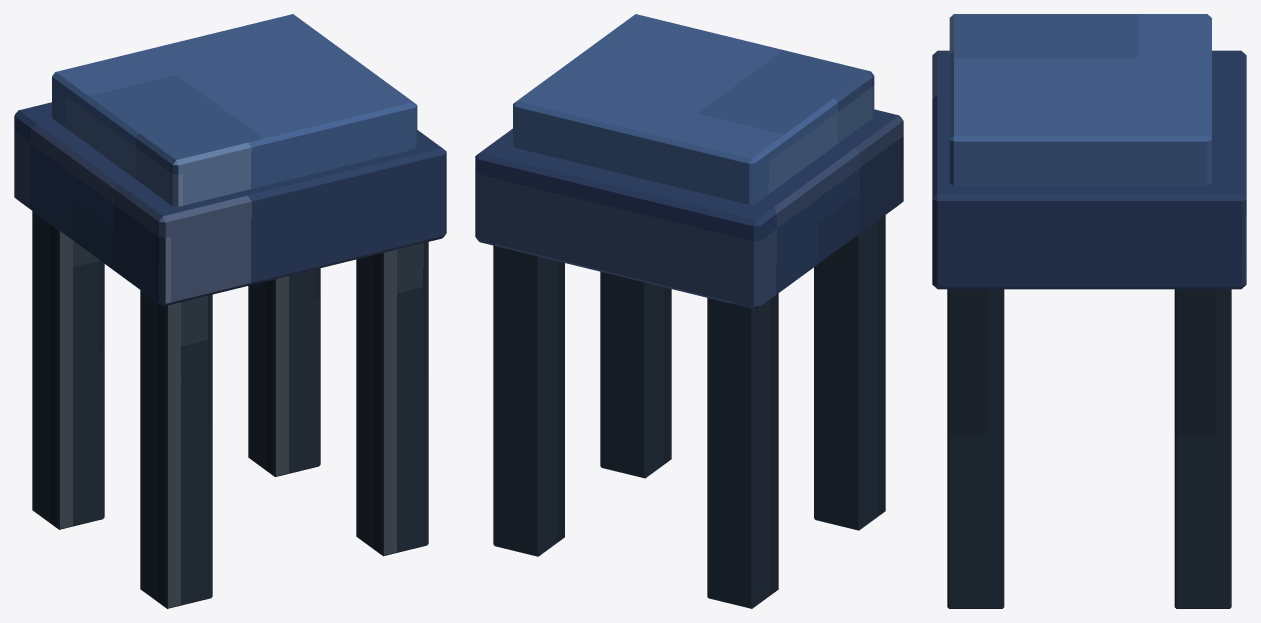
Rendered from vanity_stool_navy.glb.
The picture shows the model from 3 angles, left to right: view 1: azimuth 30°, elevation 25°; view 2: azimuth 150°, elevation 25°; view 3: azimuth 270°, elevation 25°; orthographic projection. The views are drawn at different scales.
Parts seen in each view (by area): view 1: StoolCushion, StoolSeat, StoolLeg_L_F, StoolLeg_R_F, StoolLeg_L_B, StoolLeg_R_B; view 2: StoolSeat, StoolCushion, StoolLeg_L_B, StoolLeg_R_B, StoolLeg_L_F, StoolLeg_R_F; view 3: StoolCushion, StoolSeat, StoolLeg_R_B, StoolLeg_R_F.
Part boxes in pixels (x1=…): StoolCushion: x1=52, y1=14, x2=417, y2=206; StoolSeat: x1=14, y1=102, x2=446, y2=306; StoolLeg_L_F: x1=140, y1=290, x2=212, y2=608; StoolLeg_R_F: x1=356, y1=242, x2=428, y2=556; StoolLeg_L_B: x1=32, y1=211, x2=104, y2=529; StoolLeg_R_B: x1=248, y1=268, x2=320, y2=476; StoolSeat: x1=475, y1=109, x2=903, y2=309; StoolCushion: x1=513, y1=14, x2=874, y2=204; StoolLeg_L_B: x1=707, y1=293, x2=778, y2=608; StoolLeg_R_B: x1=493, y1=245, x2=564, y2=556; StoolLeg_L_F: x1=814, y1=215, x2=885, y2=530; StoolLeg_R_F: x1=600, y1=271, x2=671, y2=478; StoolCushion: x1=949, y1=14, x2=1211, y2=185; StoolSeat: x1=932, y1=50, x2=1246, y2=289; StoolLeg_R_B: x1=1174, y1=289, x2=1231, y2=608; StoolLeg_R_F: x1=947, y1=289, x2=1004, y2=608.
Size of the model in its own units: 0.4 by 0.59 by 0.36.
Materials: 1 (1 with a texture image).
